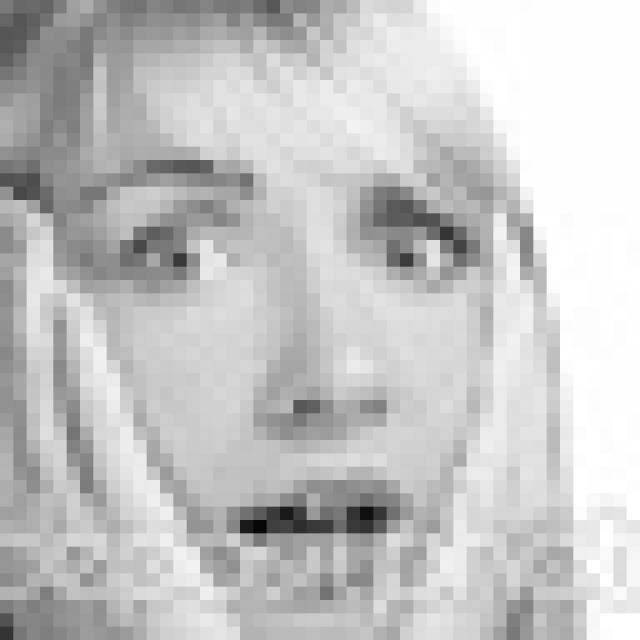fear: (71, 148, 481, 594)
